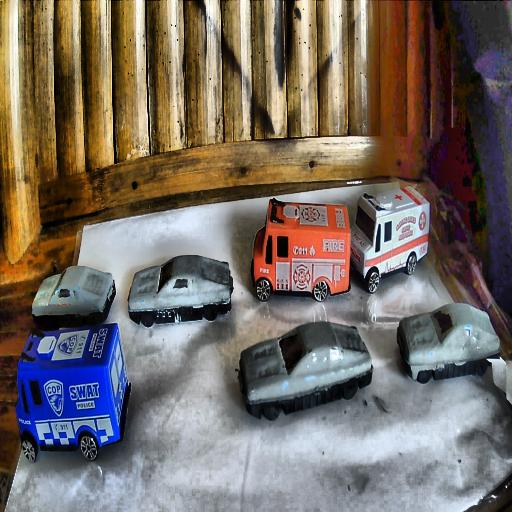ambulance: (348, 184, 430, 292)
fire_truck: (250, 197, 350, 301)
normal_car: (238, 319, 372, 422), (397, 303, 499, 384), (126, 254, 232, 327), (30, 265, 116, 332)
police car: (16, 322, 132, 464)
